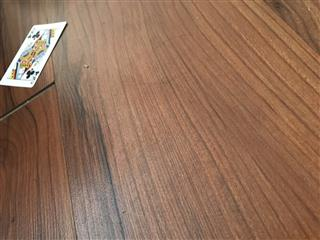QueenOfClubs: (1, 20, 66, 88)
